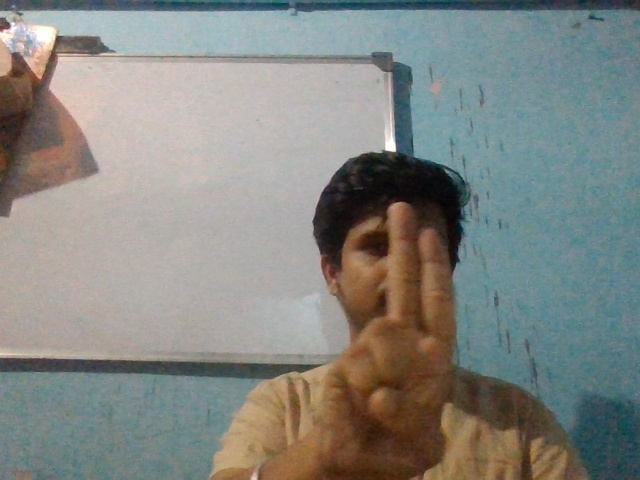Prana: (312, 197, 473, 480)
